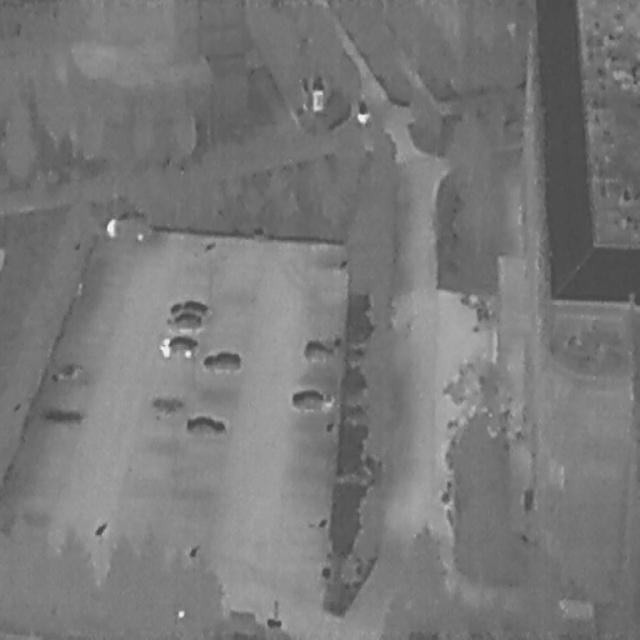Car: (185, 415, 227, 436), (291, 390, 333, 411), (202, 350, 241, 372), (160, 334, 198, 356), (169, 300, 209, 318), (166, 311, 201, 329), (302, 341, 333, 361)
